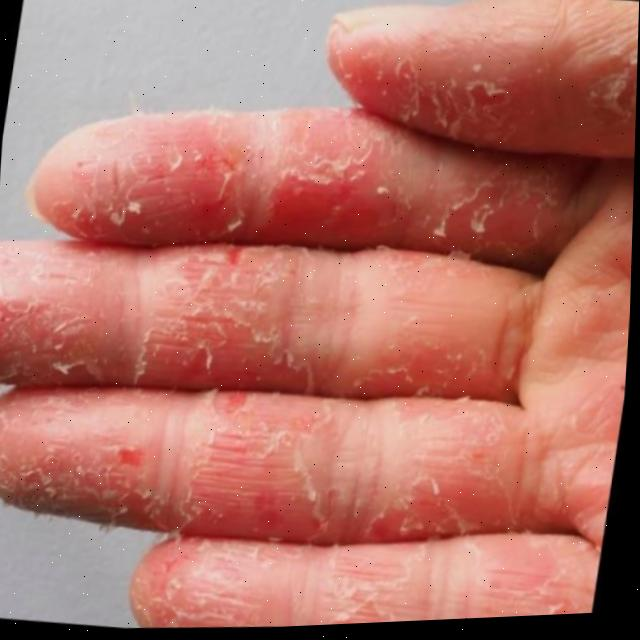Eczema: (0, 348, 556, 569), (0, 226, 513, 414), (52, 100, 565, 262), (135, 514, 609, 633), (349, 28, 638, 136)
